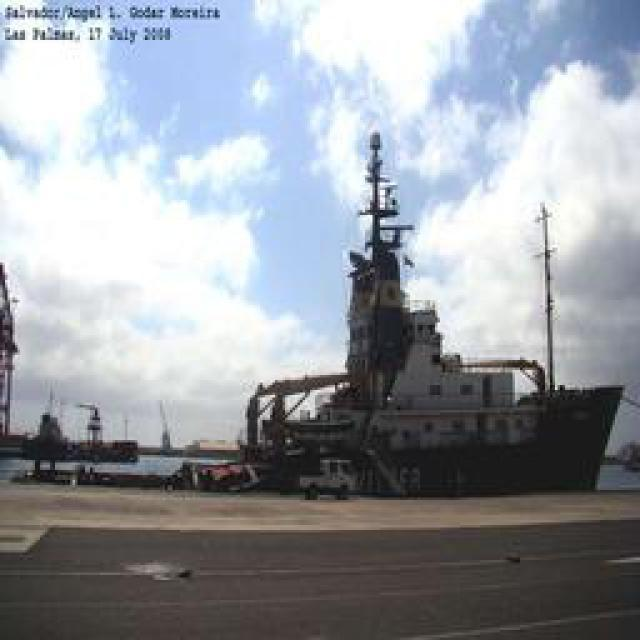Ship: (33, 130, 630, 504)
